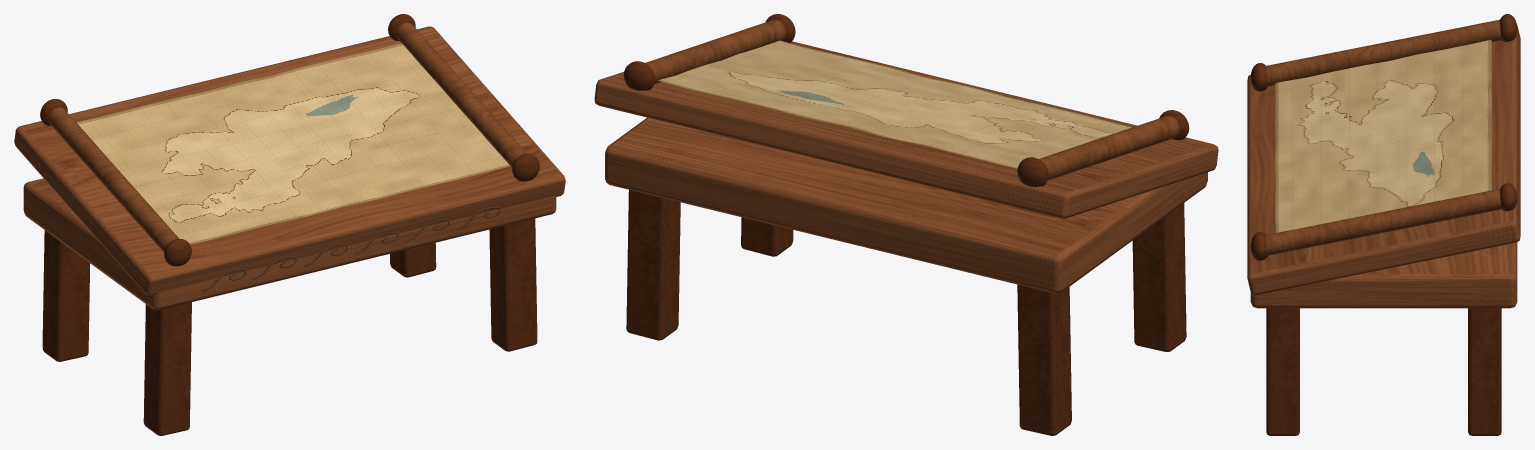
Rendered from map-table.glb.
The picture shows the model from 3 angles, left to right: view 1: azimuth 30°, elevation 25°; view 2: azimuth 150°, elevation 25°; view 3: azimuth 270°, elevation 25°; orthographic projection. The views are drawn at different scales.
Visible parts, largest first — view 1: Map table with parchment roll; view 2: Map table with parchment roll; view 3: Map table with parchment roll.
Boxes of the visible parts, left/top/right/bottom form: Map table with parchment roll: left=14, top=14, right=565, bottom=435; Map table with parchment roll: left=594, top=14, right=1218, bottom=435; Map table with parchment roll: left=1247, top=14, right=1520, bottom=435.
Size of the model in its own units: 1.48 by 0.8332 by 0.8389.
Materials: 5 (4 with a texture image).
